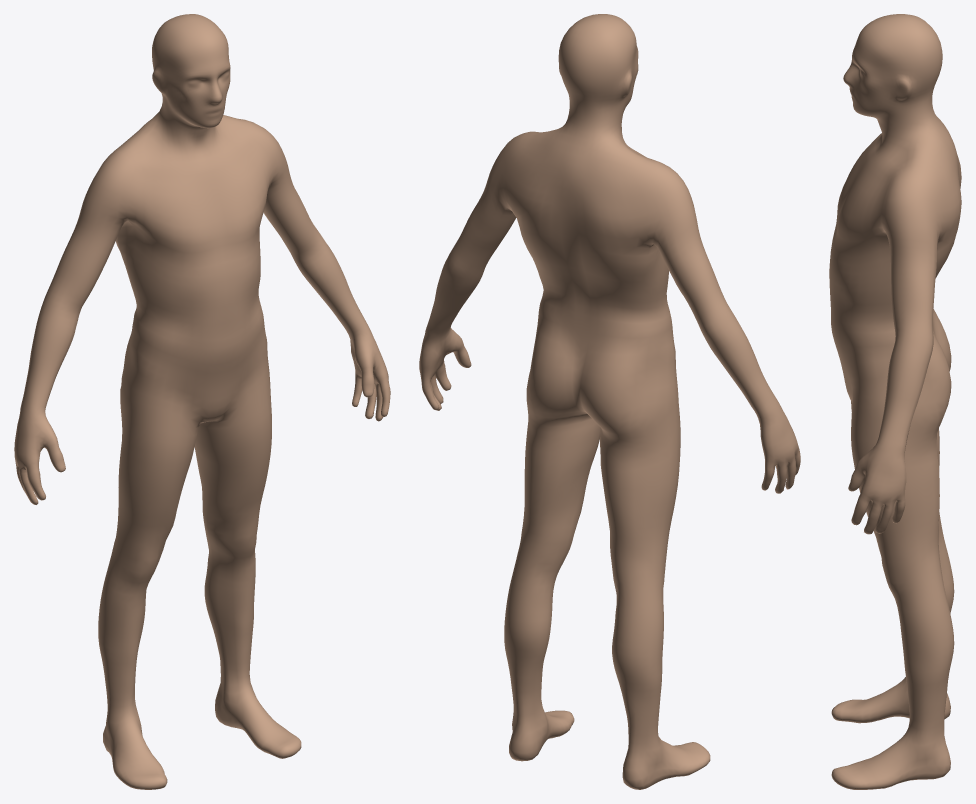
The model's file is MudBoxMeshExport.fbx.
The picture shows the model from 3 angles, left to right: view 1: azimuth 30°, elevation 25°; view 2: azimuth 150°, elevation 25°; view 3: azimuth 270°, elevation 25°; orthographic projection.
Parts seen in each view (by area): view 1: humanBody; view 2: humanBody; view 3: humanBody.
Boxes of the visible parts, x1,y1,x2,y2 form: humanBody: [14, 14, 390, 789]; humanBody: [419, 14, 800, 789]; humanBody: [829, 14, 961, 789].
Size of the model in its own units: 95.48 by 183 by 29.88.
